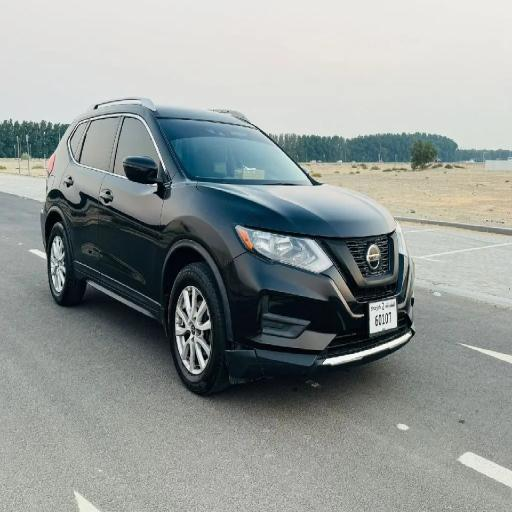license-plates: (370, 298, 397, 334)
